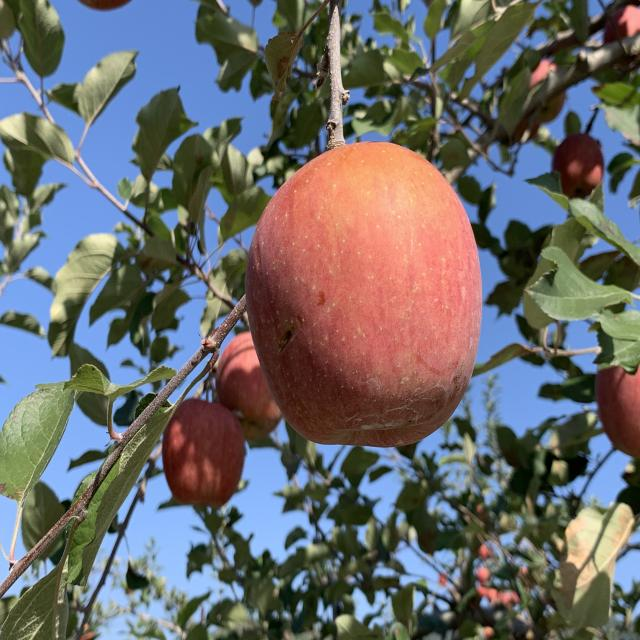fresh: (244, 137, 491, 456)
